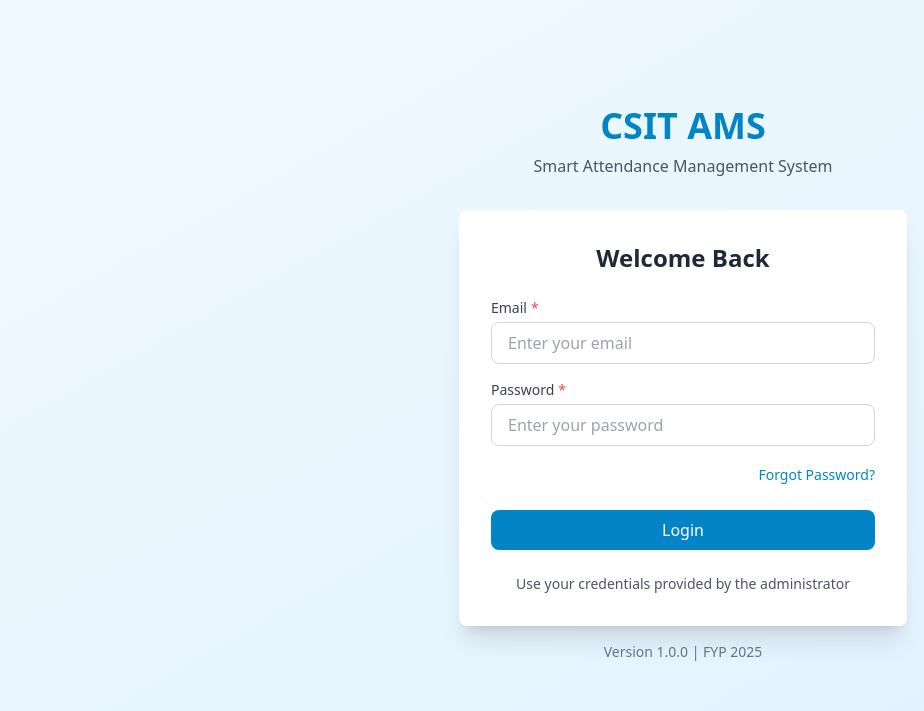
Login › shows a login error message when credentials are invalid
Type "teacher@example.com" into the field labelled "Email*". click: (683, 343)
box: left=491, top=322, right=875, bottom=364
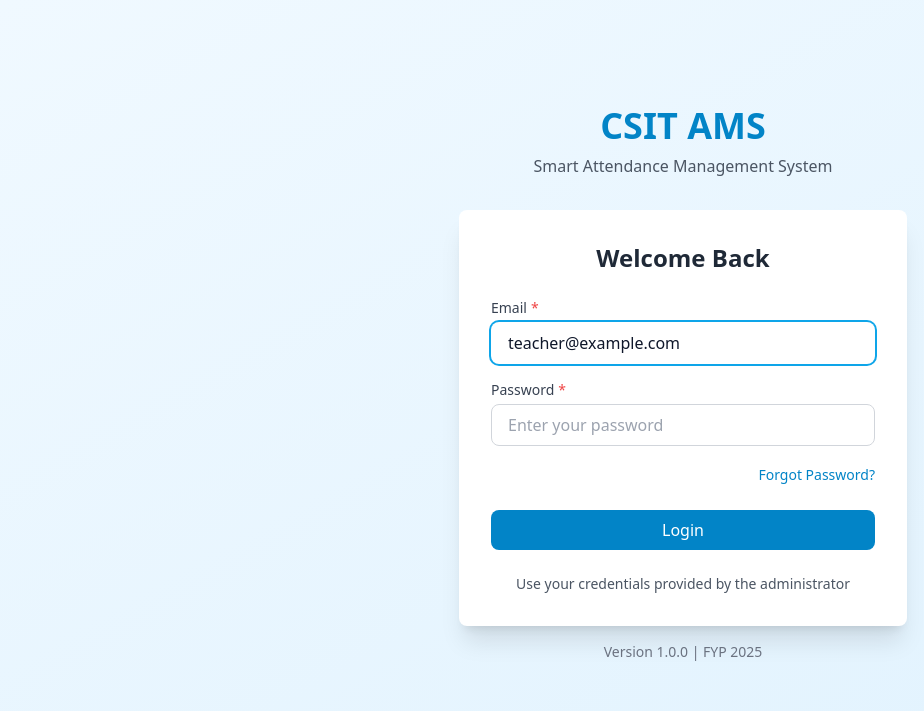
Type "wrong-password" into the password field labelled "Password*". click: (683, 425)
box: left=491, top=404, right=875, bottom=446
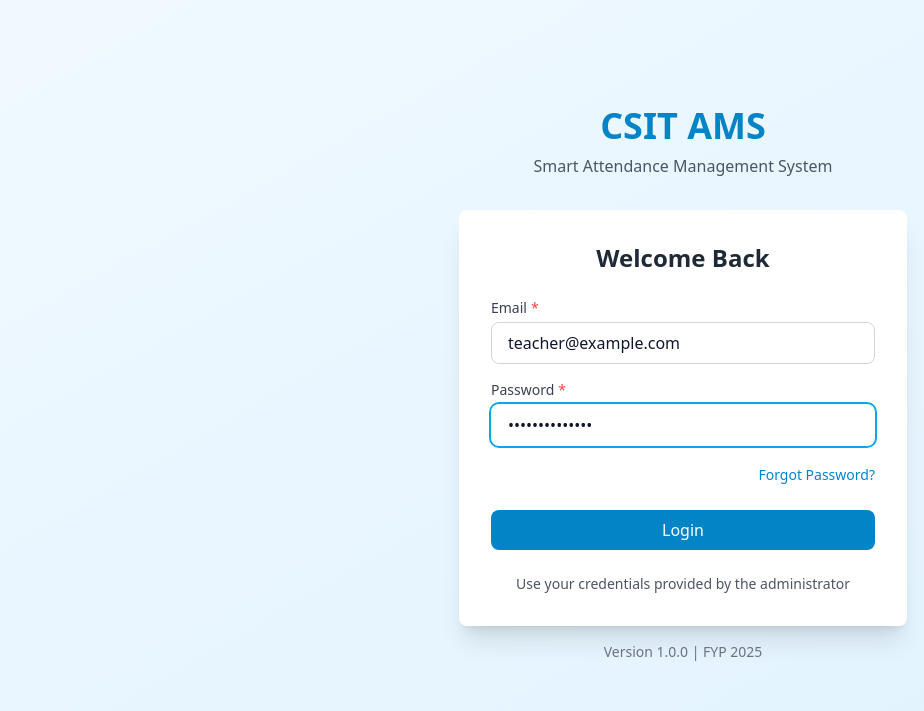
Click the button "Login". click: (683, 530)
box: left=491, top=510, right=875, bottom=550
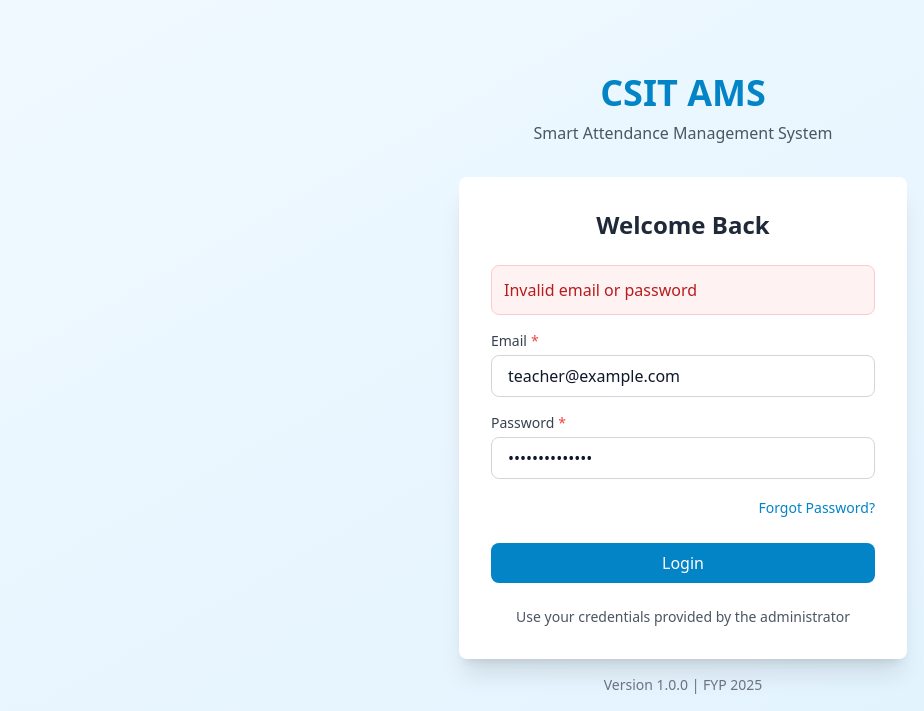
Expected: the text "Invalid email or password" is shown, left=491, top=265, right=875, bottom=315
